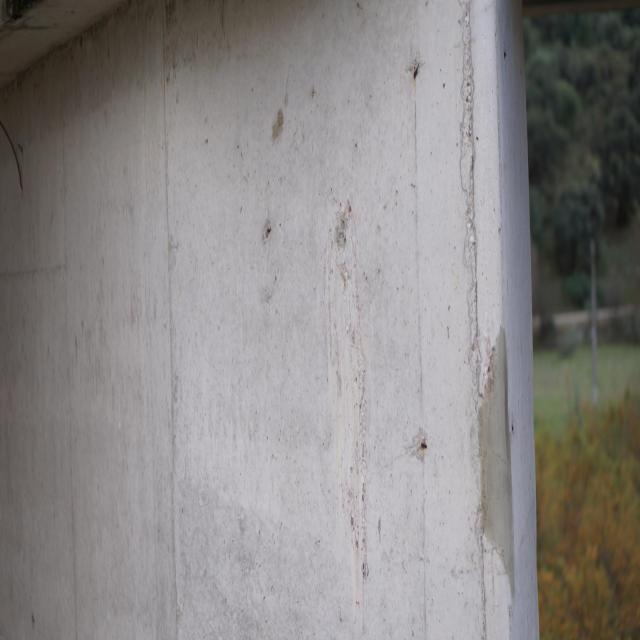Rebar: (0, 119, 25, 194), (405, 427, 428, 461)
concrete spalling: (459, 0, 484, 398)
diagonal crack: (482, 544, 510, 578)
horizontal crack: (3, 13, 53, 31)
